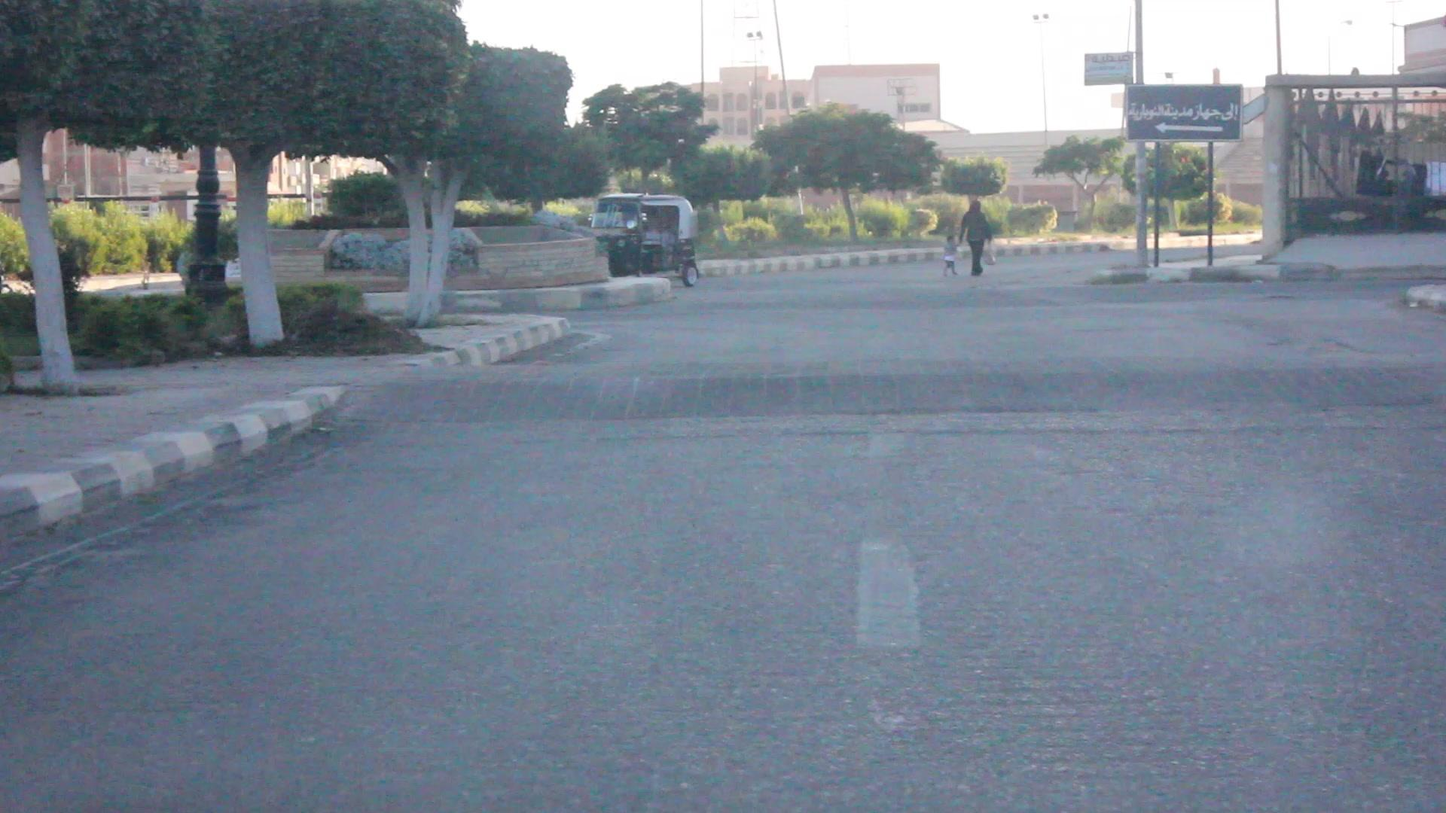Bump: (318, 348, 1445, 420)
